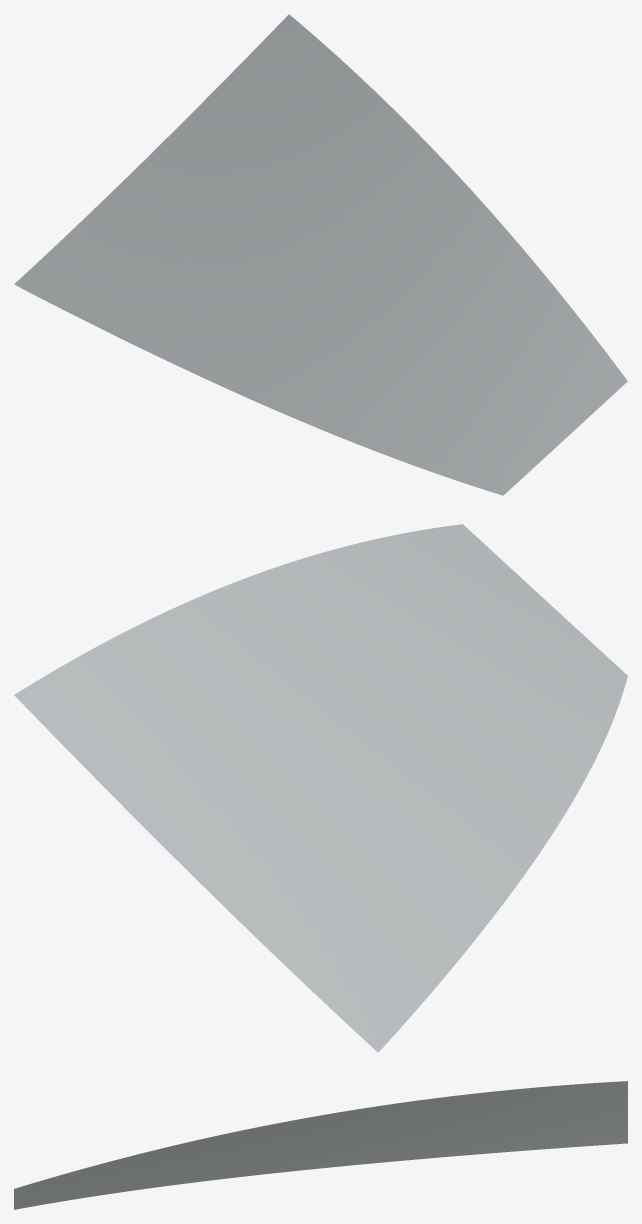
File: alpine-5-7.glb
The picture shows the model from 3 angles, top to bottom: view 1: azimuth 30°, elevation 25°; view 2: azimuth 150°, elevation 25°; view 3: azimuth 270°, elevation 25°; orthographic projection. The views are drawn at different scales.
Parts seen in each view (by area): view 1: alpine-5-7; view 2: alpine-5-7; view 3: alpine-5-7.
Part boxes in pixels (box(x1,y1,x2,y2)): alpine-5-7: box(14, 14, 627, 495); alpine-5-7: box(14, 524, 627, 1052); alpine-5-7: box(14, 1081, 627, 1209).
Size of the model in its own units: 120 by 84.65 by 256.
1 material, 1 textured.
